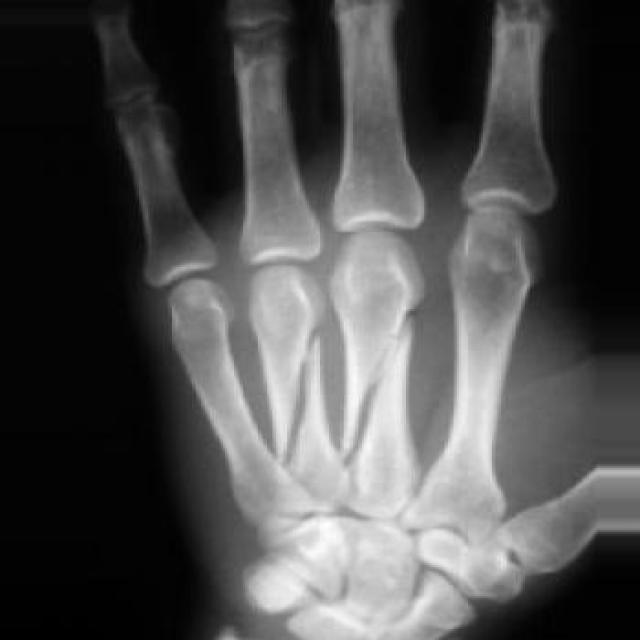Fracture: (342, 311, 424, 473), (269, 324, 328, 468)
